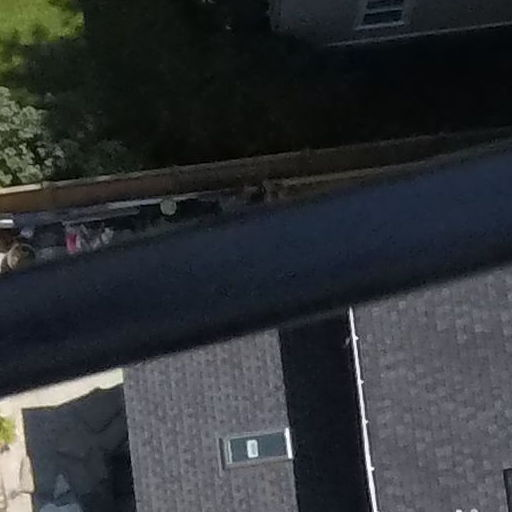container: (5, 245, 37, 269), (155, 197, 181, 223)
